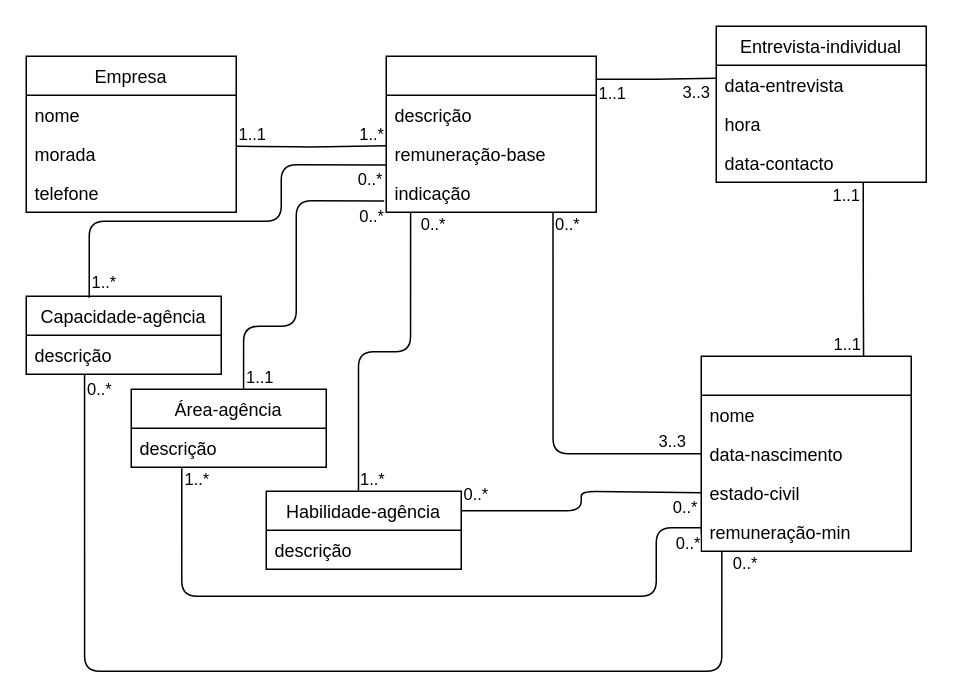
Image size: 953x699. Some labels were removed from this diagram. The shapes that lost their labels are listed below. From the top down, each one's box as (x1, y1, x2, y2) in pixels, then its label:
(385, 55, 596, 212): Oferta
(700, 355, 911, 551): Candidato
